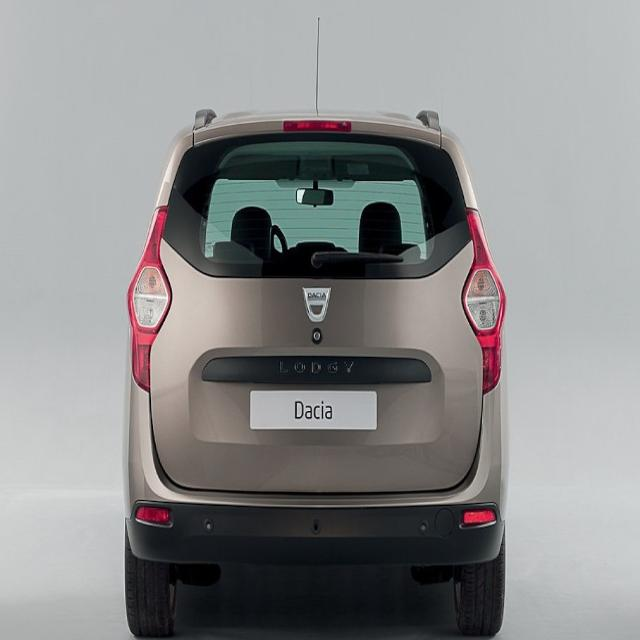back_glass: (157, 131, 474, 284)
back_left_side_light: (125, 204, 175, 398)
back_right_side_light: (460, 205, 508, 398)
rear_bumper: (127, 486, 505, 566)
wheel: (125, 527, 176, 637), (454, 529, 505, 638)
